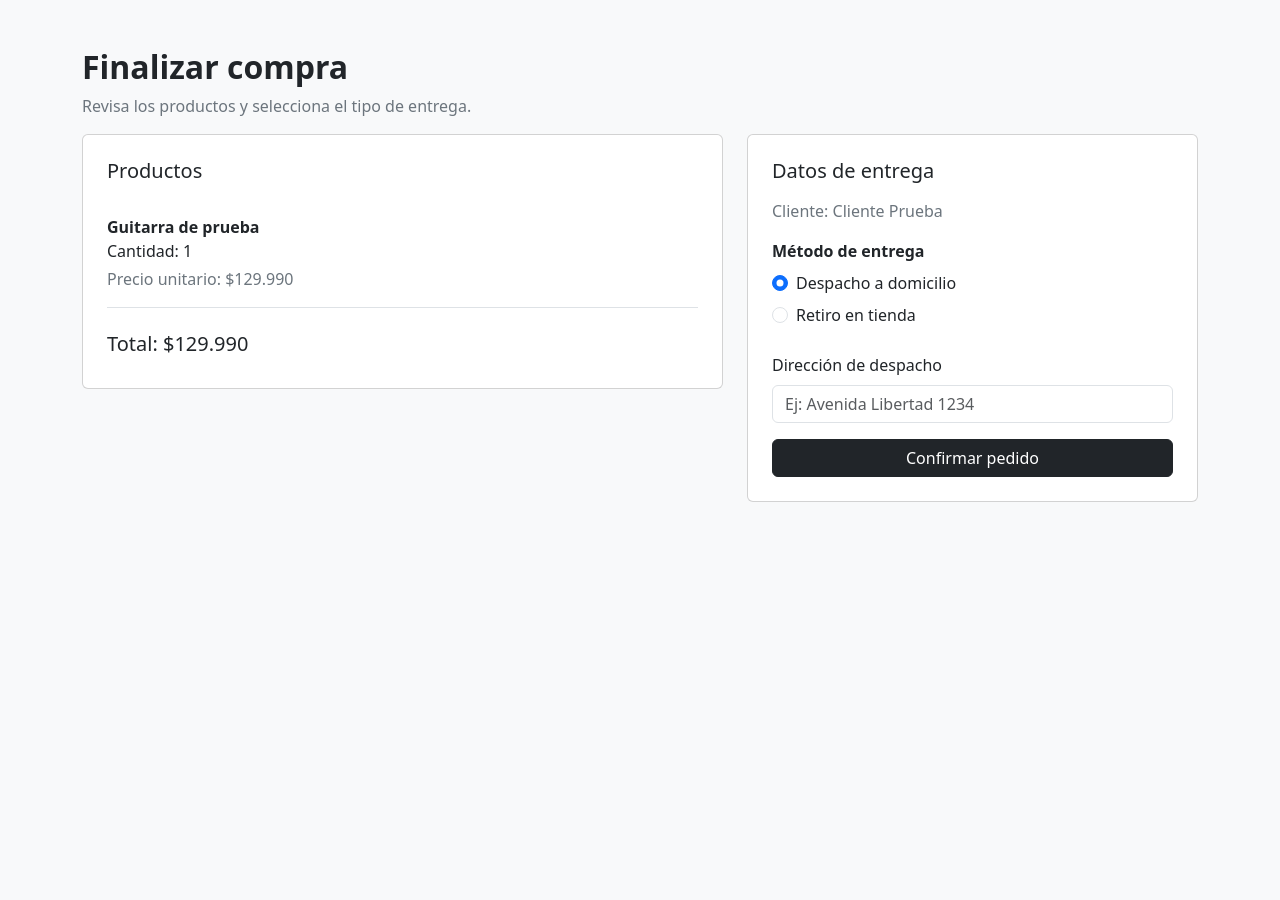
Test: Checkout conectado a pedidos de Spring Boot › no crea un pedido si el precio cambia al confirmar
Check: the button "Confirmar pedido" is enabled, box [772,439,1173,477]
Click the radio button labelled "Retiro en tienda": (780, 315) [772,307,788,323]
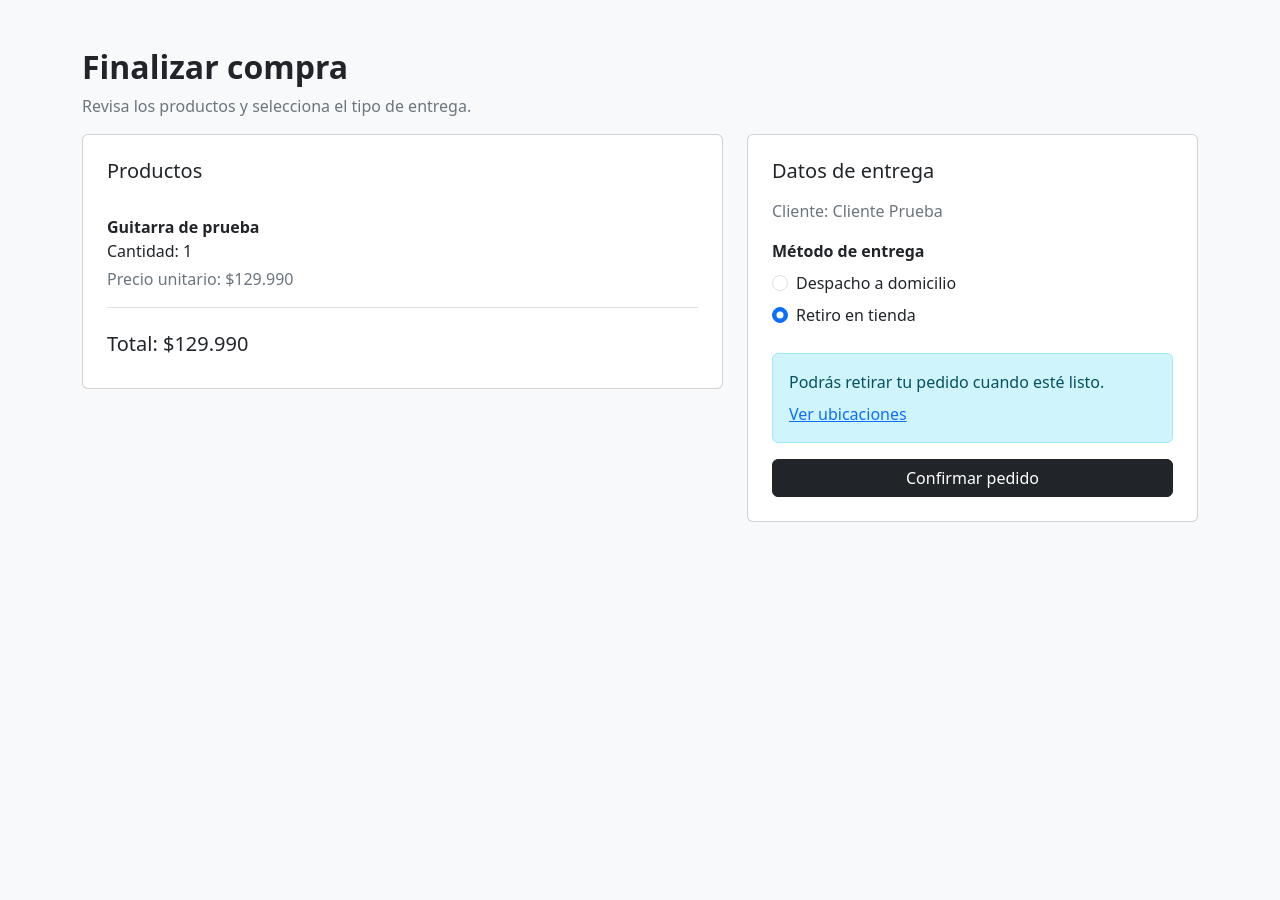
Submit the form named "Confirmar pedido", box [747,134,1198,522]
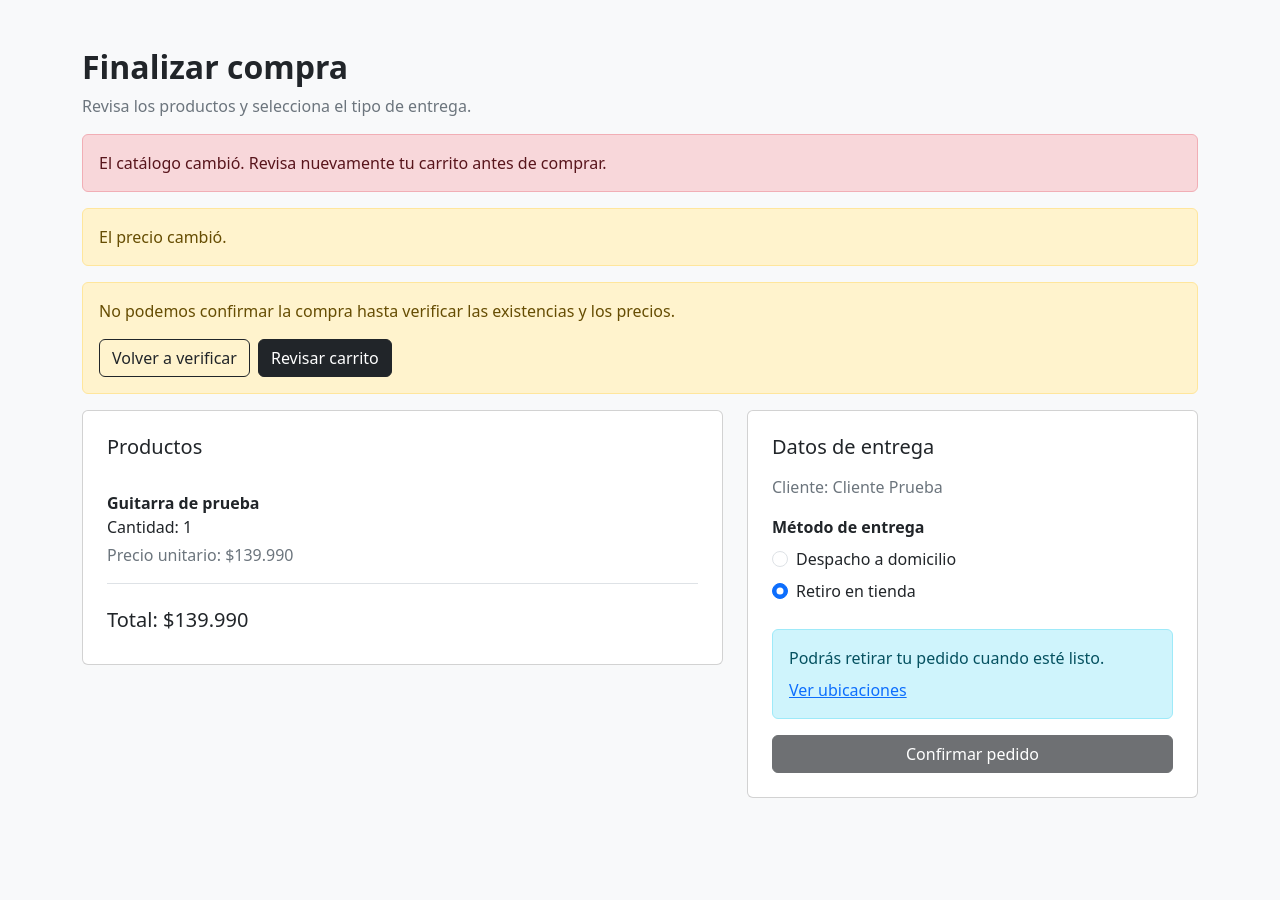
Check: the message "El catálogo cambió. Revisa nuevamente tu carrito antes de comprar." is shown, box [82,134,1198,192]
